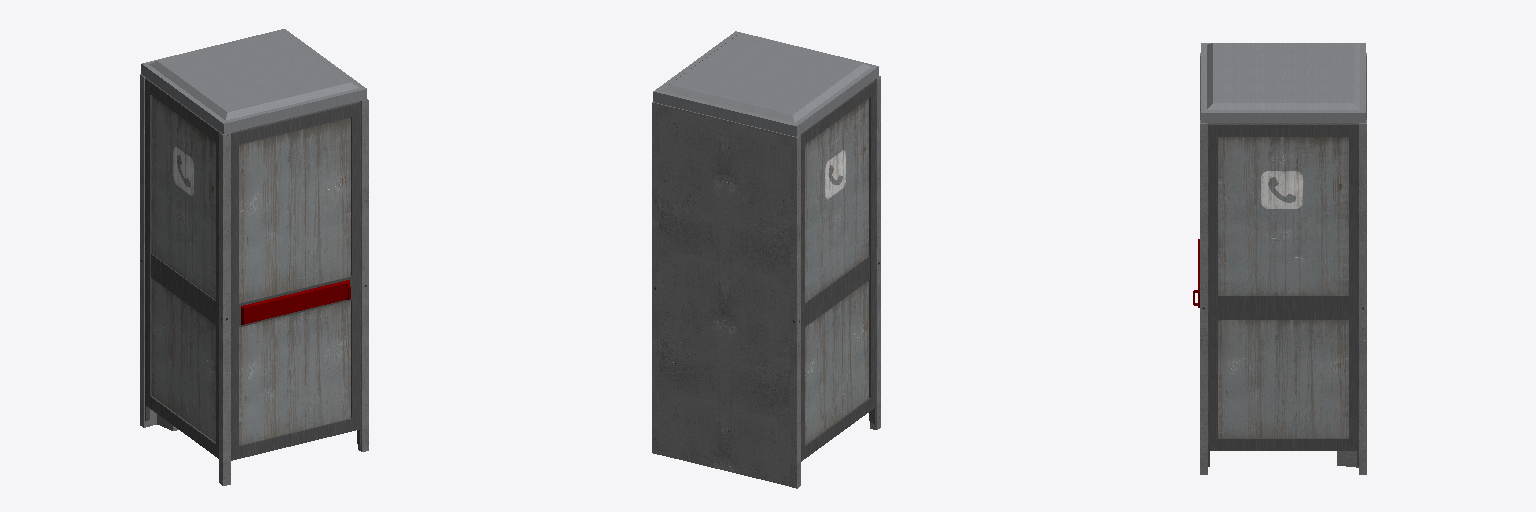
3 renders of one model, left to right at view 1: azimuth 30°, elevation 25°; view 2: azimuth 150°, elevation 25°; view 3: azimuth 270°, elevation 25°, orthographic.
Parts seen in each view (by area): view 1: Cube.003_Cube.006, Cube.004_Cube.007; view 2: Cube.004_Cube.007, Cube.003_Cube.006; view 3: Cube.003_Cube.006, Cube.004_Cube.007.
Boxes of the visible parts, box(x1,y1,x2,y2) form: Cube.003_Cube.006: box(141, 29, 366, 444); Cube.004_Cube.007: box(140, 74, 368, 485); Cube.004_Cube.007: box(652, 76, 880, 488); Cube.003_Cube.006: box(653, 31, 878, 444); Cube.003_Cube.006: box(1201, 43, 1365, 437); Cube.004_Cube.007: box(1193, 53, 1366, 474).
Size of the model in its own units: 3.65 by 8.78 by 3.78.
3 materials, 3 textured.